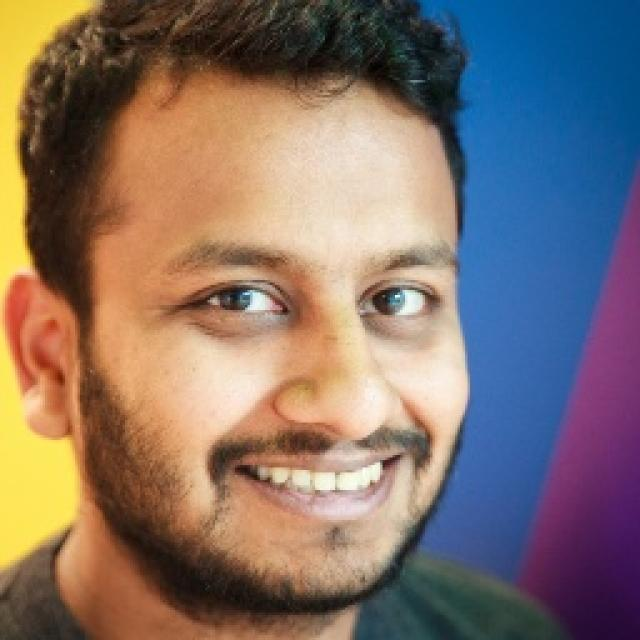earlobe: (21, 400, 75, 441)
eye: (202, 284, 284, 323), (360, 285, 434, 321)
nose: (279, 416, 403, 456)
wholeear: (0, 270, 71, 440)
